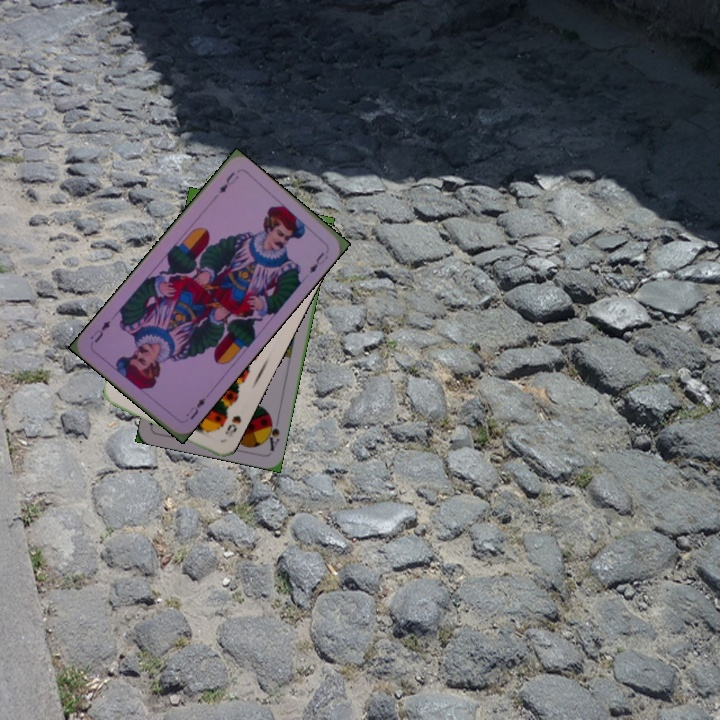EU: (182, 394, 208, 422), (215, 168, 241, 196)
S8: (221, 411, 244, 440)
SA: (262, 413, 282, 454)
